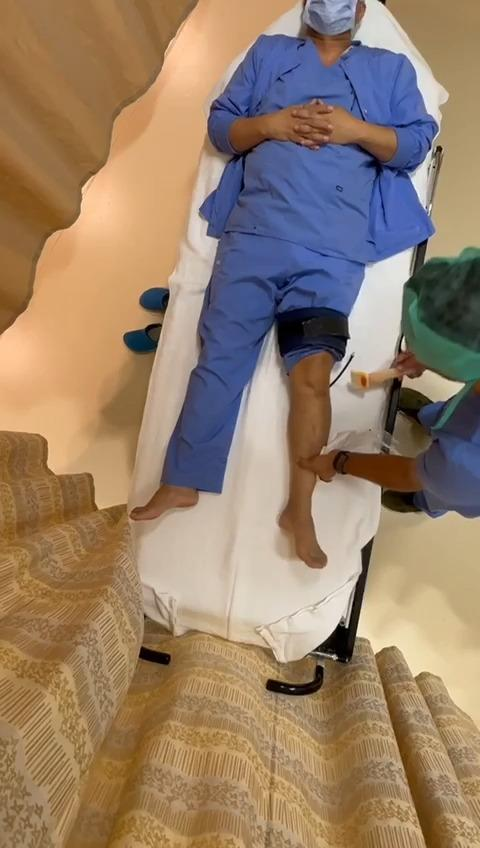patient: (132, 0, 437, 568)
prepstick: (356, 363, 412, 390)
tourniquet: (277, 307, 350, 359)
